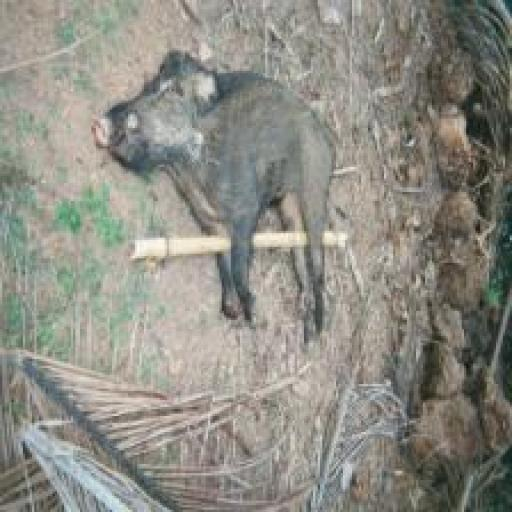Pig: (91, 46, 336, 332)
